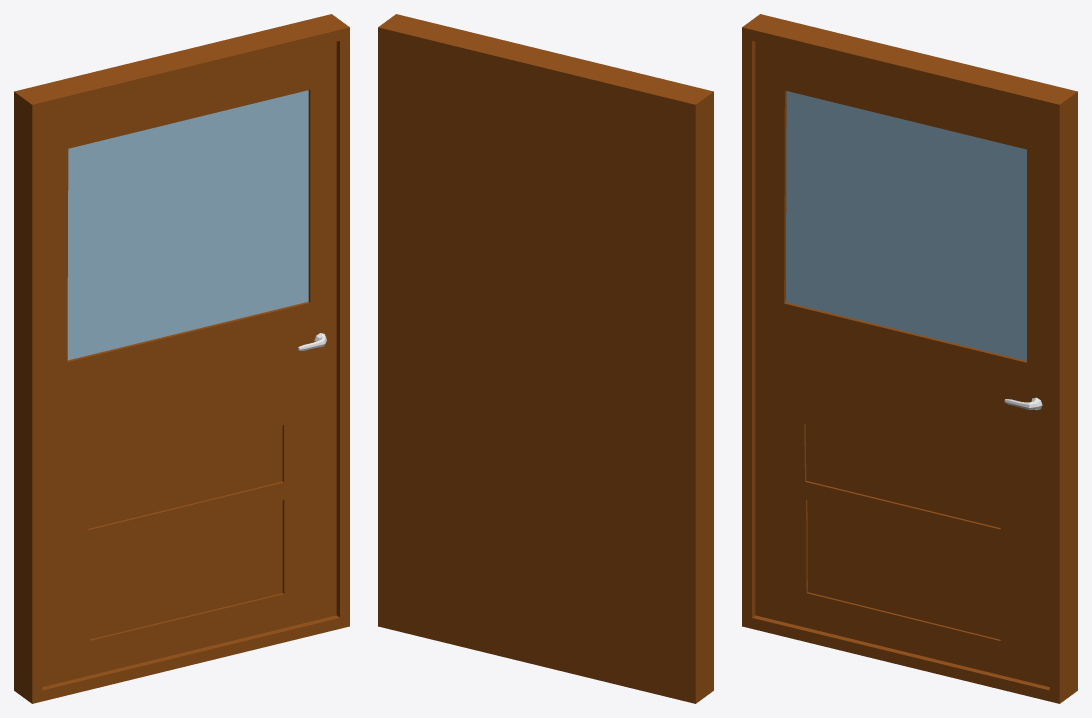
File: Brown Door.fbx
3 views of the same model, side by side, from view 1: azimuth 30°, elevation 25°; view 2: azimuth 150°, elevation 25°; view 3: azimuth 330°, elevation 25° (orthographic).
Visible parts, largest first — view 1: Brown Door; view 2: Brown Door; view 3: Brown Door.
Part boxes in pixels (left/top/right/bottom): Brown Door: left=14, top=14, right=349, bottom=703; Brown Door: left=378, top=14, right=713, bottom=703; Brown Door: left=742, top=14, right=1077, bottom=703.
Bounding box in the file's own units: 200 × 360 × 22.95.
